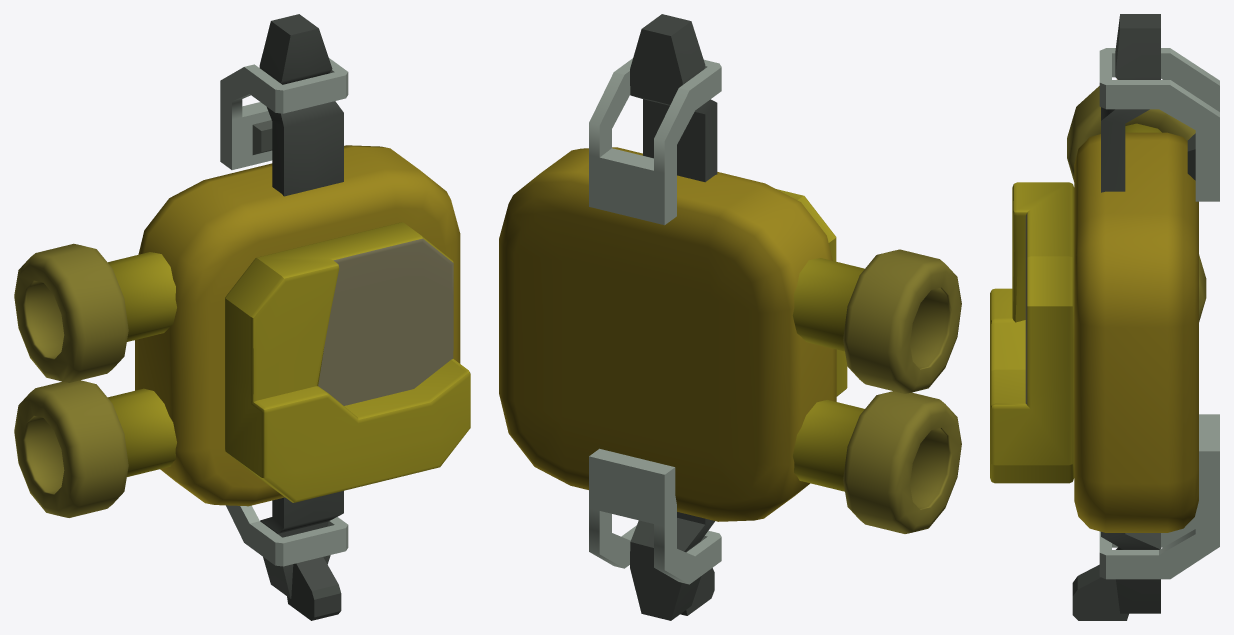
Rendered from Procesor_Cooling_lvl_09_V04.fbx.
The picture shows the model from 3 angles, left to right: view 1: azimuth 30°, elevation 25°; view 2: azimuth 150°, elevation 25°; view 3: azimuth 270°, elevation 25°; orthographic projection. The views are drawn at different scales.
Parts seen in each view (by area): view 1: Procesor_Cooling_lvl_09; view 2: Procesor_Cooling_lvl_09; view 3: Procesor_Cooling_lvl_09.
Boxes of the visible parts, bbox=[...] form: Procesor_Cooling_lvl_09: bbox=[14, 14, 470, 620]; Procesor_Cooling_lvl_09: bbox=[499, 14, 961, 620]; Procesor_Cooling_lvl_09: bbox=[990, 14, 1219, 620].
Bounding box in the file's own units: 32.81 × 45.04 × 15.83.
